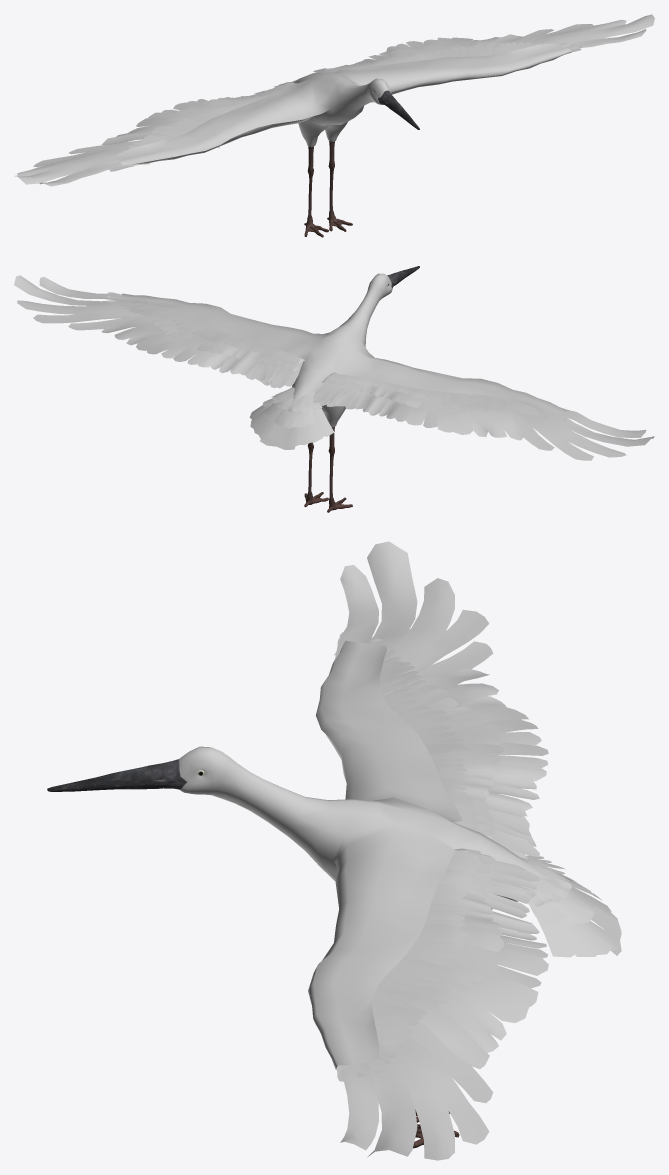
File: BB_DanDingHe.FBX
3 renders of one model, top to bottom at view 1: azimuth 30°, elevation 25°; view 2: azimuth 150°, elevation 25°; view 3: azimuth 270°, elevation 25°, orthographic. The views are drawn at different scales.
Parts seen in each view (by area): view 1: BB_DanDingHe_body, BB_DanDingHe_YuMao01, BB_DanDingHe_YuMao; view 2: BB_DanDingHe_body, BB_DanDingHe_YuMao01, BB_DanDingHe_YuMao; view 3: BB_DanDingHe_body, BB_DanDingHe_YuMao01, BB_DanDingHe_YuMao.
Boxes of the visible parts, bbox=[...] form: BB_DanDingHe_body: bbox=[117, 43, 571, 237]; BB_DanDingHe_YuMao01: bbox=[14, 14, 654, 186]; BB_DanDingHe_YuMao: bbox=[107, 42, 582, 171]; BB_DanDingHe_body: bbox=[118, 266, 568, 512]; BB_DanDingHe_YuMao01: bbox=[14, 275, 654, 460]; BB_DanDingHe_YuMao: bbox=[107, 292, 571, 419]; BB_DanDingHe_body: bbox=[47, 640, 621, 1148]; BB_DanDingHe_YuMao01: bbox=[334, 541, 548, 1160]; BB_DanDingHe_YuMao: bbox=[334, 632, 503, 1081].
Bounding box in the file's own units: 387 × 110 × 151.
